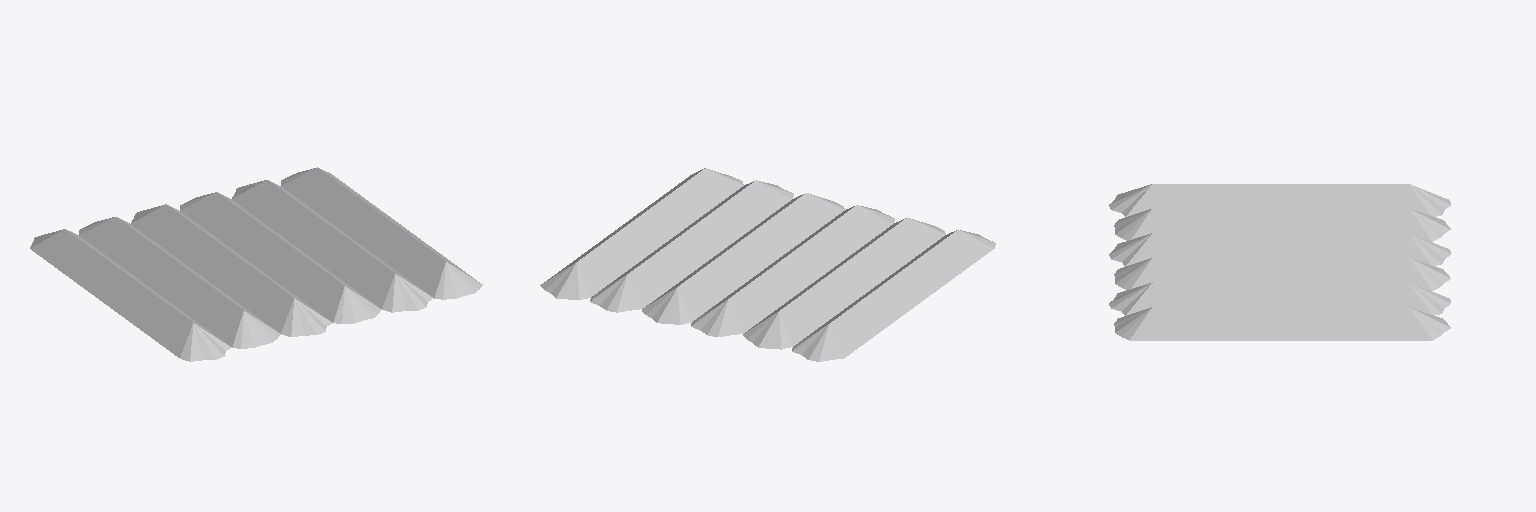
File: terra.obj
The picture shows the model from 3 angles: view 1: azimuth 30°, elevation 25°; view 2: azimuth 150°, elevation 25°; view 3: azimuth 270°, elevation 25°; orthographic projection.
Visible parts, largest first — view 1: PlowedRowEnd.002_Plane.011, PlowedRowEnd_Plane.011, PlowedRowEnd.001_Plane.011, PlowedRowSegment_Plane.009, PlowedRowSegment.001_Plane.009, PlowedRowSegment.002_Plane.009, PlowedRowStart.001_Plane.010, PlowedRowStart.002_Plane.010, PlowedRowStart_Plane.010; view 2: PlowedRowStart_Plane.010, PlowedRowStart.002_Plane.010, PlowedRowStart.001_Plane.010, PlowedRowSegment.001_Plane.009, PlowedRowSegment_Plane.009, PlowedRowSegment.002_Plane.009, PlowedRowEnd.002_Plane.011, PlowedRowEnd.001_Plane.011, PlowedRowEnd_Plane.011; view 3: PlowedRowSegment.002_Plane.009, PlowedRowEnd.002_Plane.011, PlowedRowStart.002_Plane.010, PlowedRowSegment.001_Plane.009, PlowedRowSegment_Plane.009, PlowedRowEnd_Plane.011, PlowedRowEnd.001_Plane.011, PlowedRowStart.001_Plane.010, PlowedRowStart_Plane.010.
Boxes of the visible parts, box(x1,y1,x2,y2) form: PlowedRowEnd.002_Plane.011: box(336, 236, 482, 312); PlowedRowEnd_Plane.011: box(235, 261, 381, 336); PlowedRowEnd.001_Plane.011: box(133, 285, 280, 361); PlowedRowSegment_Plane.009: box(176, 218, 332, 299); PlowedRowSegment.001_Plane.009: box(75, 242, 230, 323); PlowedRowSegment.002_Plane.009: box(277, 193, 434, 274); PlowedRowStart.001_Plane.010: box(30, 217, 173, 281); PlowedRowStart.002_Plane.010: box(232, 167, 374, 231); PlowedRowStart_Plane.010: box(131, 192, 273, 256); PlowedRowStart_Plane.010: box(642, 261, 788, 336); PlowedRowStart.002_Plane.010: box(540, 237, 686, 312); PlowedRowStart.001_Plane.010: box(743, 286, 889, 361); PlowedRowSegment.001_Plane.009: box(790, 243, 947, 324); PlowedRowSegment_Plane.009: box(688, 218, 846, 299); PlowedRowSegment.002_Plane.009: box(589, 194, 745, 275); PlowedRowEnd.002_Plane.011: box(648, 168, 793, 232); PlowedRowEnd.001_Plane.011: box(849, 217, 995, 281); PlowedRowEnd_Plane.011: box(750, 193, 894, 257); PlowedRowSegment.002_Plane.009: box(1223, 282, 1338, 340); PlowedRowEnd.002_Plane.011: box(1109, 282, 1222, 340); PlowedRowStart.002_Plane.010: box(1339, 282, 1450, 340); PlowedRowSegment.001_Plane.009: box(1223, 184, 1338, 232); PlowedRowSegment_Plane.009: box(1223, 233, 1338, 281); PlowedRowEnd_Plane.011: box(1109, 233, 1222, 289); PlowedRowEnd.001_Plane.011: box(1109, 184, 1222, 240); PlowedRowStart.001_Plane.010: box(1339, 184, 1450, 241); PlowedRowStart_Plane.010: box(1339, 233, 1450, 290).
Bounding box in the file's own units: 3 × 0.2 × 2.94.